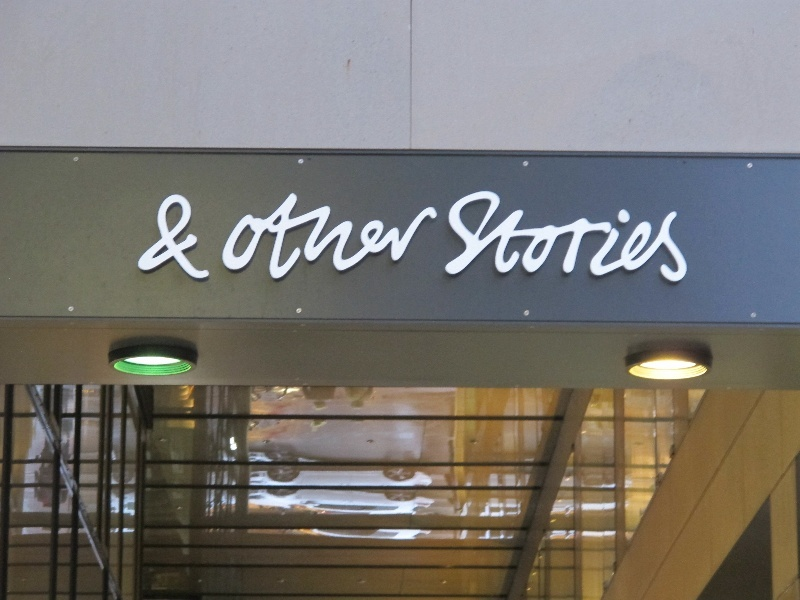text: (465, 188, 480, 292), (481, 188, 496, 292), (497, 188, 512, 292), (513, 188, 528, 292), (529, 188, 544, 292), (545, 188, 560, 292), (561, 188, 576, 292), (577, 188, 592, 292), (593, 188, 608, 292), (609, 188, 624, 292), (625, 188, 640, 292), (641, 188, 656, 292), (657, 188, 672, 292), (673, 188, 688, 292), (177, 189, 192, 285), (193, 189, 208, 285), (241, 193, 256, 284), (257, 193, 272, 284), (273, 193, 288, 284), (289, 193, 304, 284), (305, 193, 320, 284), (321, 193, 336, 284), (337, 193, 352, 284), (353, 193, 368, 284), (369, 193, 384, 284), (385, 193, 400, 284), (401, 193, 416, 284), (417, 193, 432, 284), (451, 188, 464, 292), (230, 193, 240, 284), (167, 189, 176, 285), (433, 193, 440, 284), (689, 188, 695, 292), (209, 189, 211, 285)
